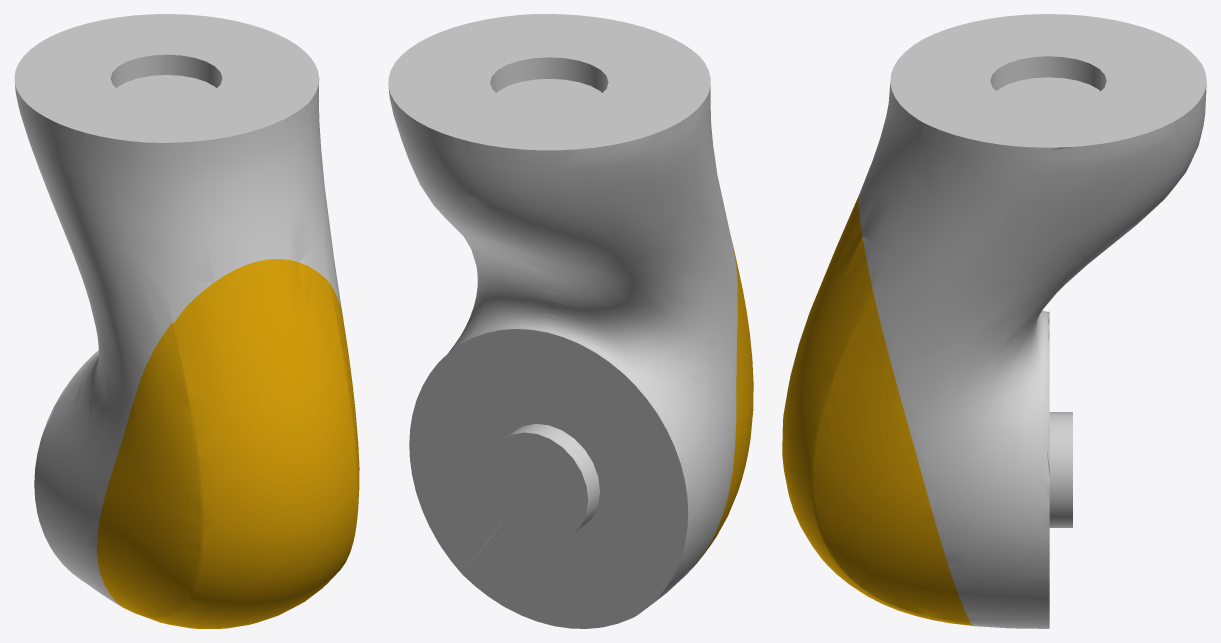
3 views of the same model, side by side, from view 1: azimuth 30°, elevation 25°; view 2: azimuth 150°, elevation 25°; view 3: azimuth 270°, elevation 25° (orthographic). The views are drawn at different scales.
Parts seen in each view (by area): view 1: ShapeIndexedFaceSet; view 2: ShapeIndexedFaceSet; view 3: ShapeIndexedFaceSet.
Part boxes in pixels (bbox=[...]): ShapeIndexedFaceSet: bbox=[14, 14, 359, 628]; ShapeIndexedFaceSet: bbox=[388, 14, 753, 628]; ShapeIndexedFaceSet: bbox=[782, 14, 1206, 628].
Bounding box in the file's own units: 0.136 × 0.1825 × 0.2525.
